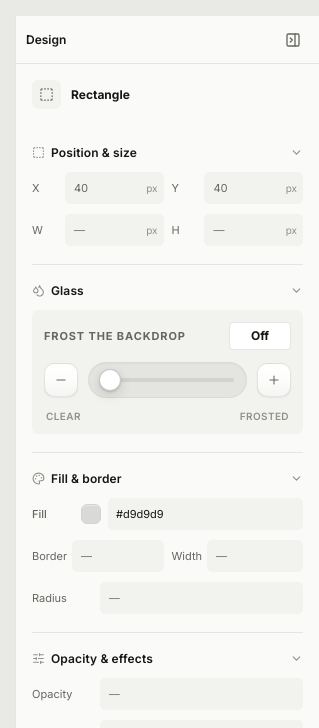
PropertiesPanel glass effect › commits the slider level once on release
Set the slider with test id "glass-level-slider" to "60" at (180, 380), box [99, 362, 236, 398]
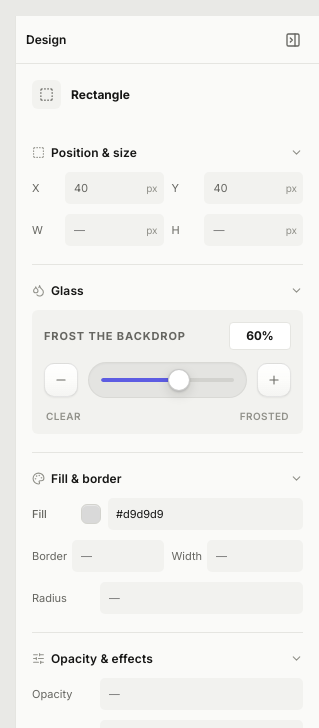
Expected: the text with test id "glass-level-value" reads "60%", [246, 328, 274, 343]
